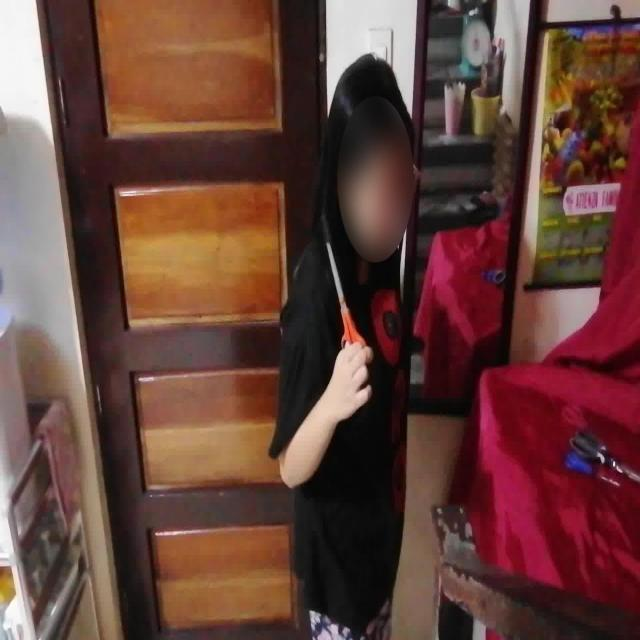scissor: (326, 240, 366, 348)
